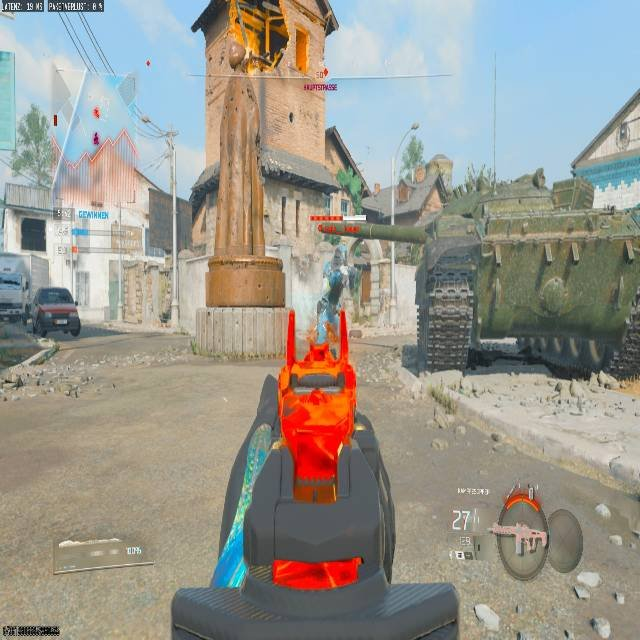head: (335, 244, 347, 261)
